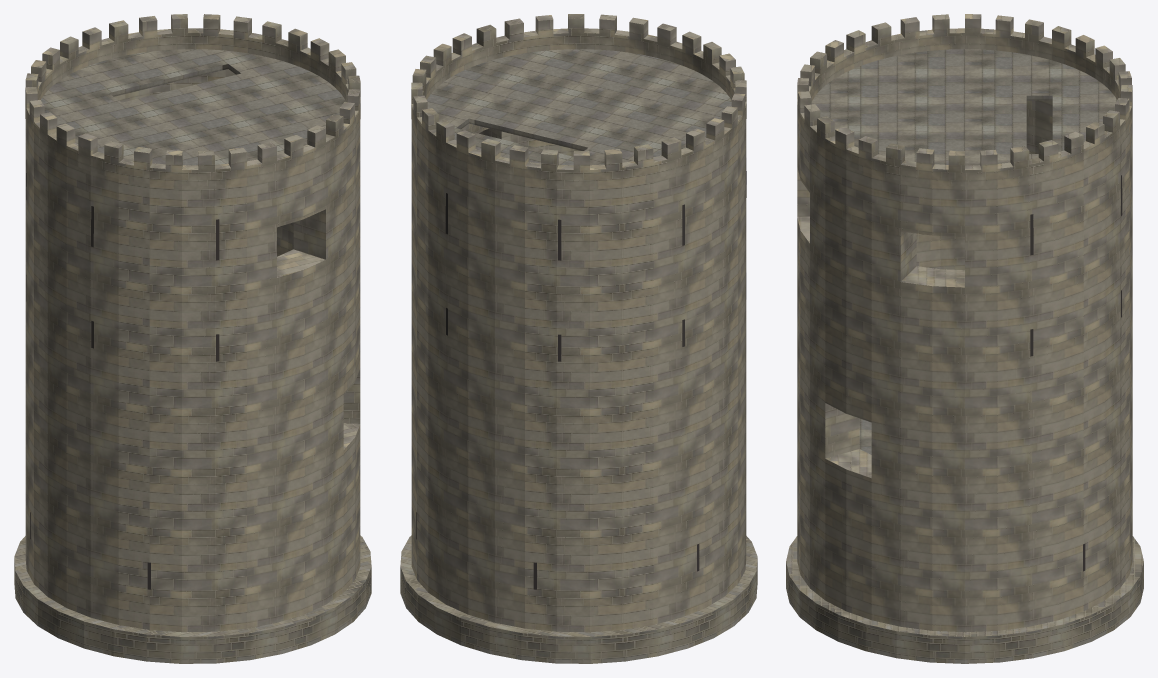
The model's file is fort-tower-round.reveal-v1.lod1.glb.
3 renders of one model, left to right at view 1: azimuth 30°, elevation 25°; view 2: azimuth 150°, elevation 25°; view 3: azimuth 270°, elevation 25°, orthographic.
Visible parts, largest first — view 1: fort-tower-round; view 2: fort-tower-round; view 3: fort-tower-round.
Part boxes in pixels (x1,y1,x2,y2): fort-tower-round: (14,14,371,663); fort-tower-round: (400,14,757,663); fort-tower-round: (786,14,1143,663).
Bounding box in the file's own units: 19.2 × 29.8 × 19.2.
Materials: 4 (3 with a texture image).
